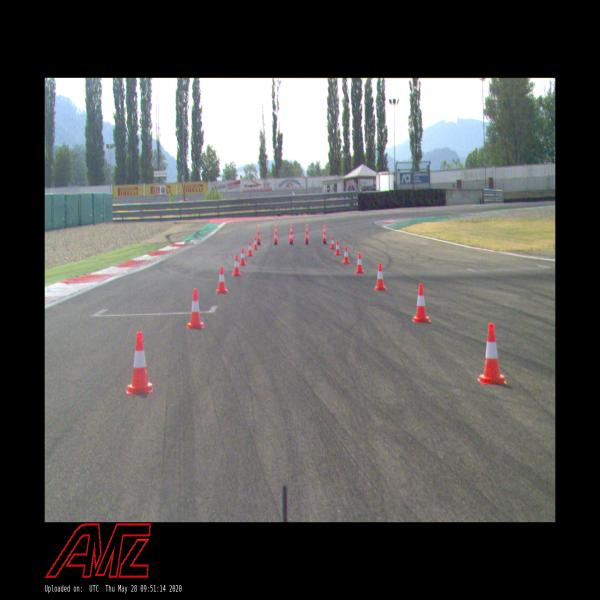large_orange_cone: (304, 224, 310, 244), (322, 225, 328, 244), (273, 225, 278, 245), (289, 224, 294, 244), (256, 226, 260, 245)
orange_cone: (477, 323, 507, 385), (126, 331, 153, 395), (412, 284, 431, 322), (186, 288, 204, 328), (215, 265, 228, 294), (374, 262, 387, 290), (355, 252, 364, 274), (231, 255, 240, 276), (342, 246, 350, 264), (239, 248, 246, 266), (247, 241, 253, 257), (334, 241, 340, 256), (253, 236, 259, 250), (330, 236, 335, 250)
